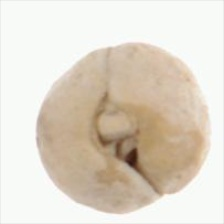L3: (90, 91, 145, 171)
L4: (34, 42, 212, 214)
